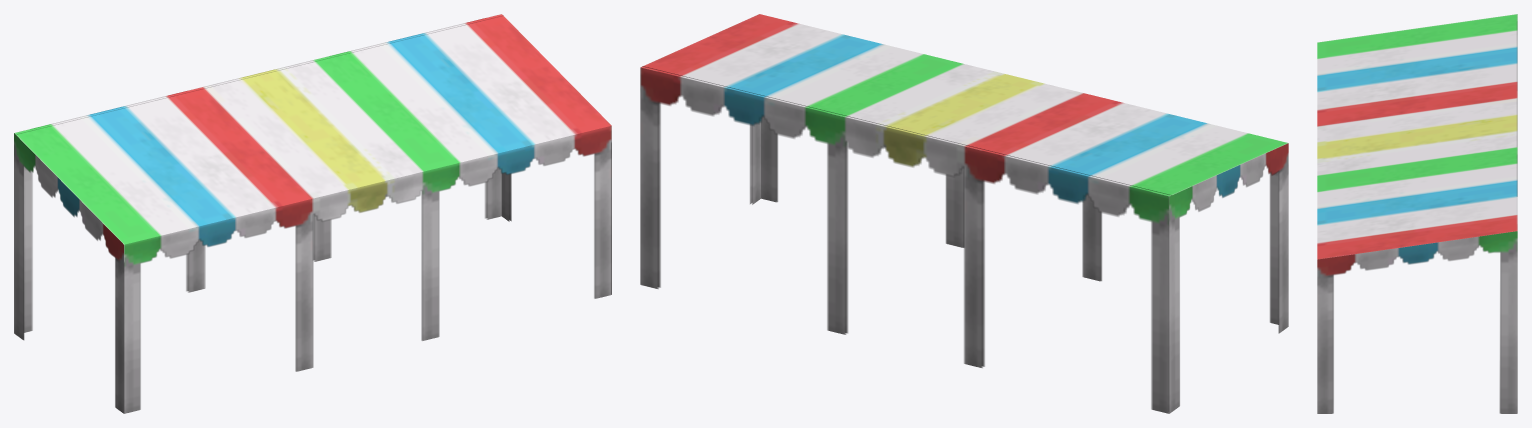
Rendered from Environment - Prop - Shed 2 - PMShed2.glb.
3 views of the same model, side by side, from view 1: azimuth 30°, elevation 25°; view 2: azimuth 150°, elevation 25°; view 3: azimuth 270°, elevation 25° (orthographic). The views are drawn at different scales.
Visible parts, largest first — view 1: PMSHED2; view 2: PMSHED2; view 3: PMSHED2.
Boxes of the visible parts, left/top/right/bottom form: PMSHED2: left=14, top=14, right=611, bottom=413; PMSHED2: left=640, top=14, right=1288, bottom=413; PMSHED2: left=1317, top=14, right=1517, bottom=413.
Bounding box in the file's own units: 30.74 × 12.07 × 12.
Materials: 1 (1 with a texture image).
